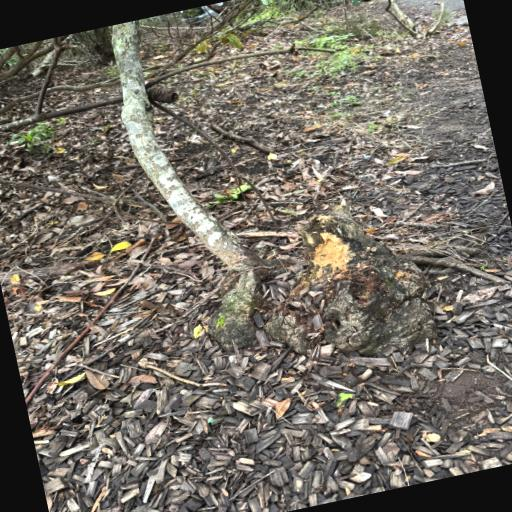tree root: (113, 22, 434, 355)
